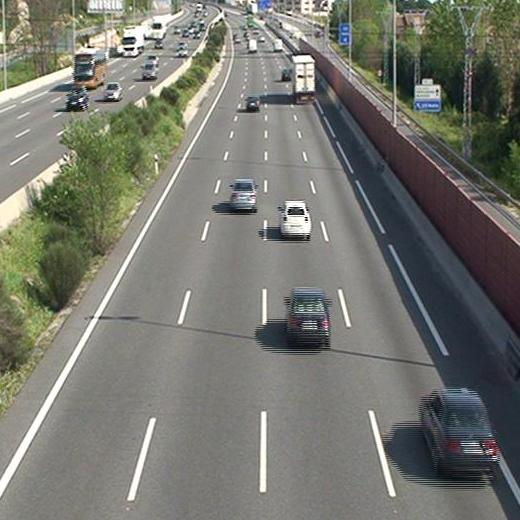car: (419, 390, 499, 473), (287, 288, 329, 342), (279, 200, 311, 235), (229, 178, 256, 210), (245, 95, 260, 109), (282, 66, 293, 79)
truck: (291, 54, 314, 103)
